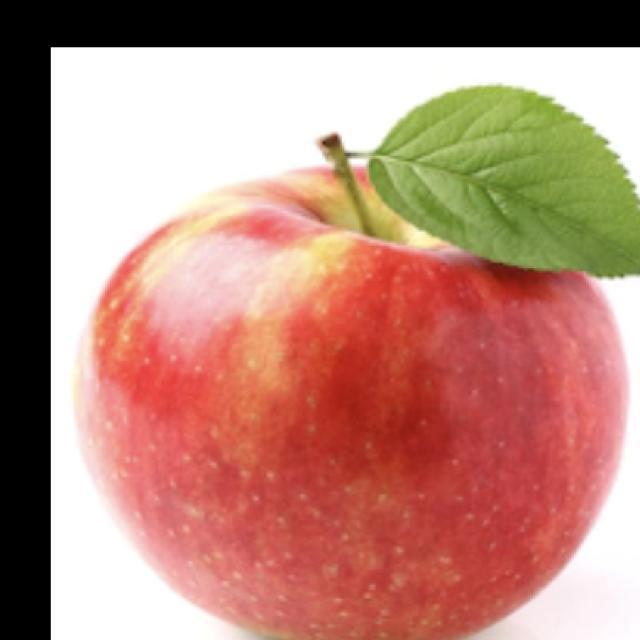Apple: (73, 139, 631, 639)
